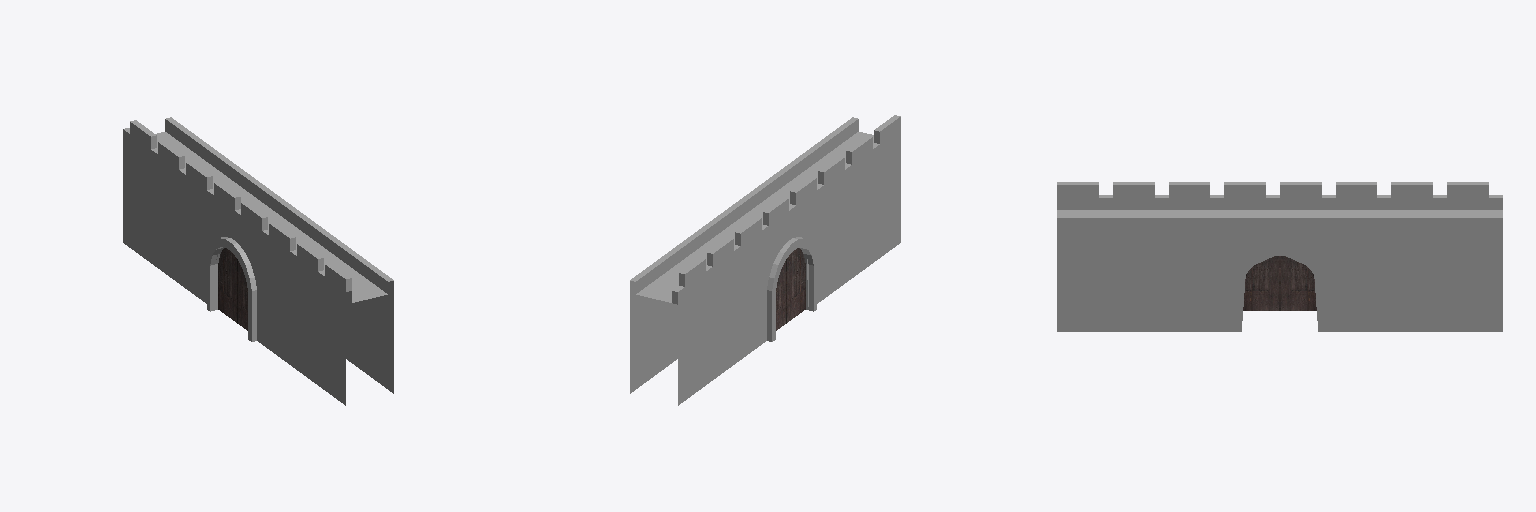
3 renders of one model, left to right at view 1: azimuth 30°, elevation 25°; view 2: azimuth 150°, elevation 25°; view 3: azimuth 270°, elevation 25°, orthographic.
Visible parts, largest first — view 1: Object_poorlords_bricks.jpg, Object_wall_bottom_moss.jpg, Object_wall_bottom_mud.jpg, Object_poorlords_battlements_floor.jpg, Object_default-grey.jpg, Object_poorlords_gate.jpg; view 2: Object_poorlords_bricks.jpg, Object_wall_bottom_moss.jpg, Object_wall_bottom_mud.jpg, Object_poorlords_battlements_floor.jpg, Object_poorlords_gate.jpg, Object_default-grey.jpg; view 3: Object_poorlords_bricks.jpg, Object_wall_bottom_mud.jpg, Object_poorlords_gate.jpg, Object_poorlords_battlements_floor.jpg.
Part boxes in pixels (bbox=[...]): Object_poorlords_bricks.jpg: bbox=[123, 117, 393, 341]; Object_wall_bottom_moss.jpg: bbox=[123, 180, 345, 405]; Object_wall_bottom_mud.jpg: bbox=[346, 299, 393, 393]; Object_poorlords_battlements_floor.jpg: bbox=[156, 132, 387, 302]; Object_default-grey.jpg: bbox=[207, 237, 256, 341]; Object_poorlords_gate.jpg: bbox=[218, 248, 247, 330]; Object_poorlords_bricks.jpg: bbox=[630, 115, 900, 341]; Object_wall_bottom_moss.jpg: bbox=[678, 180, 900, 405]; Object_wall_bottom_mud.jpg: bbox=[630, 303, 677, 393]; Object_poorlords_battlements_floor.jpg: bbox=[636, 132, 873, 302]; Object_poorlords_gate.jpg: bbox=[776, 248, 805, 330]; Object_default-grey.jpg: bbox=[767, 237, 816, 341]; Object_poorlords_bricks.jpg: bbox=[1057, 182, 1502, 268]; Object_wall_bottom_mud.jpg: bbox=[1057, 269, 1502, 331]; Object_poorlords_gate.jpg: bbox=[1243, 256, 1316, 310]; Object_poorlords_battlements_floor.jpg: bbox=[1057, 210, 1502, 214].
Size of the model in its own units: 0.3467 by 0.7832 by 2.5.
7 materials, 1 textured.